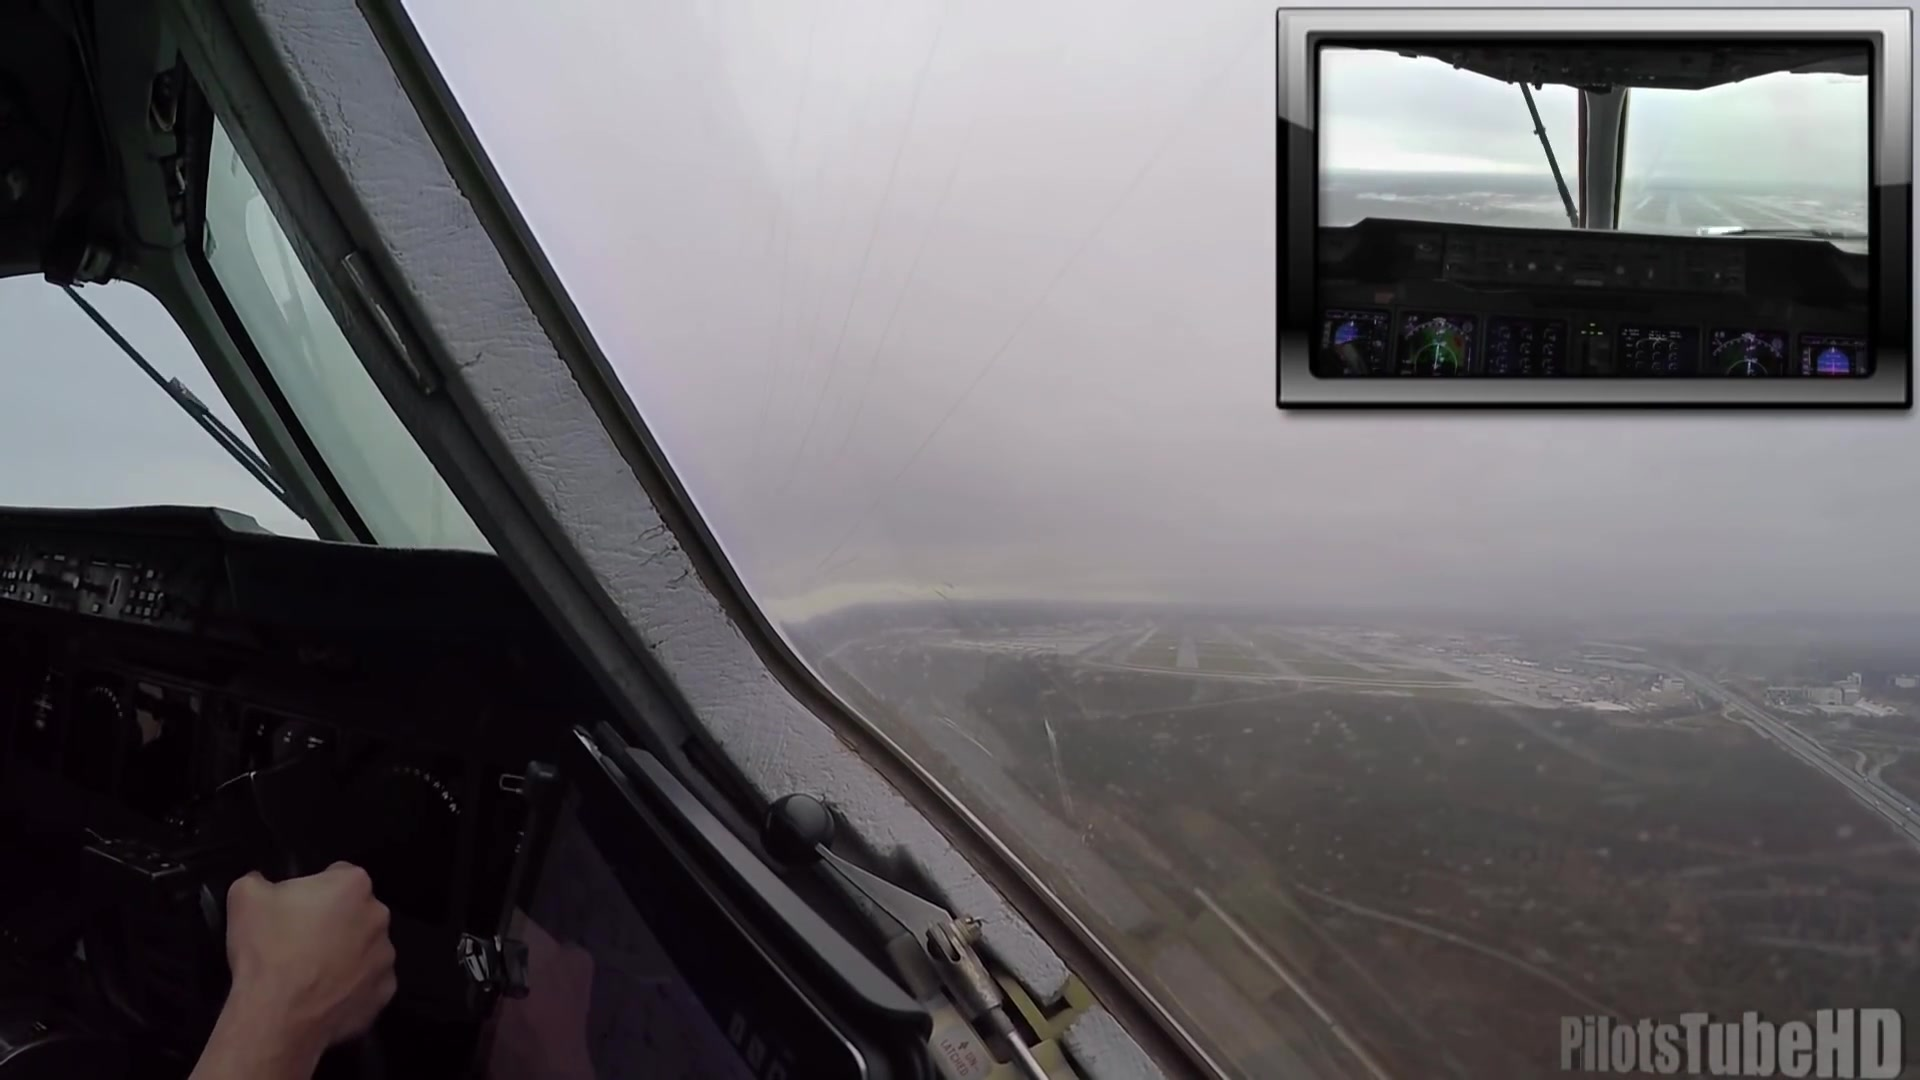runway: (1174, 636, 1197, 669)
